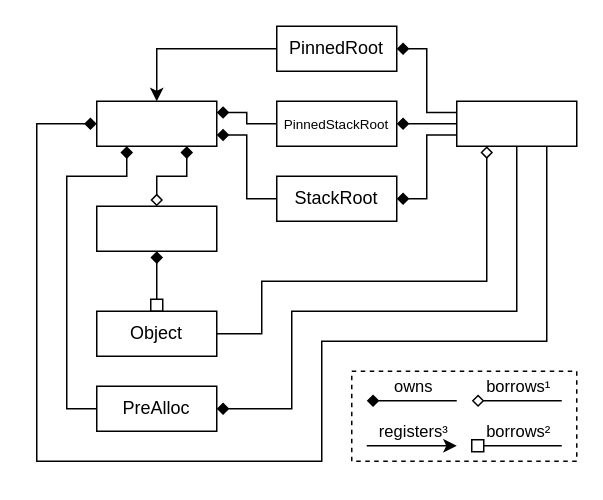
This 603x500 diagram has some shape labels left out. Each missing label, with the centre of its shape:
"Block" goes at point 156,228.
"GcHeap" goes at point 156,123.
"UnsafeRef" goes at point 516,123.
